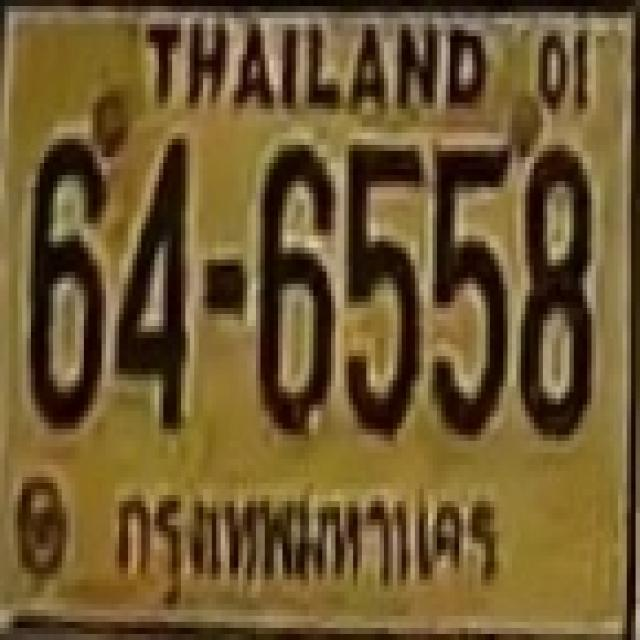4: (115, 132, 185, 422)
5: (428, 145, 508, 435), (342, 142, 417, 432)
6: (27, 136, 102, 426), (256, 139, 331, 429)
8: (516, 139, 587, 435)
BKK: (102, 464, 510, 621)
